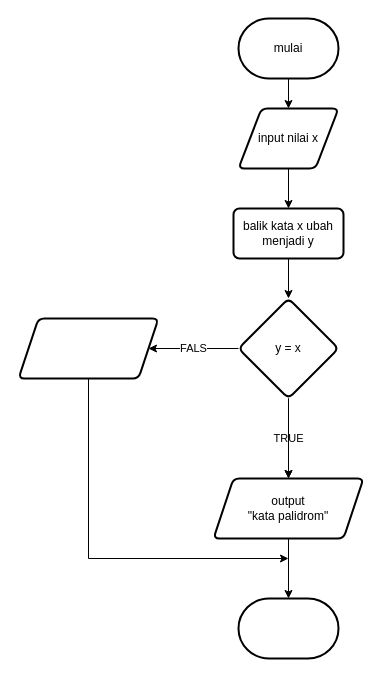
The diagram is 381 pixels wide and 676 high, and some of its shapes have lost their labels. Here are the shapes that lost their labels. From the top down, the centre of each, then its label:
the point at 88,348: output "bukan kata palidrom"
the point at 288,628: selesai
